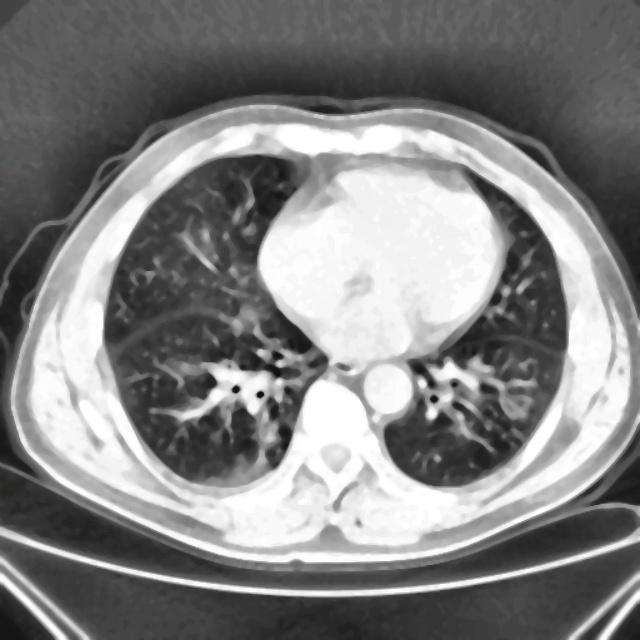covid: (2, 93, 638, 572)
